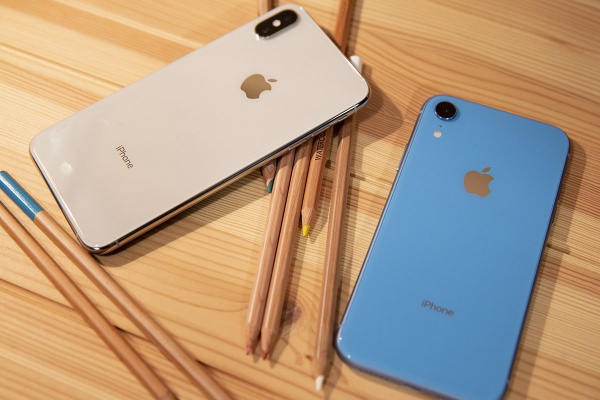apple: (230, 63, 287, 107), (456, 154, 499, 211)
